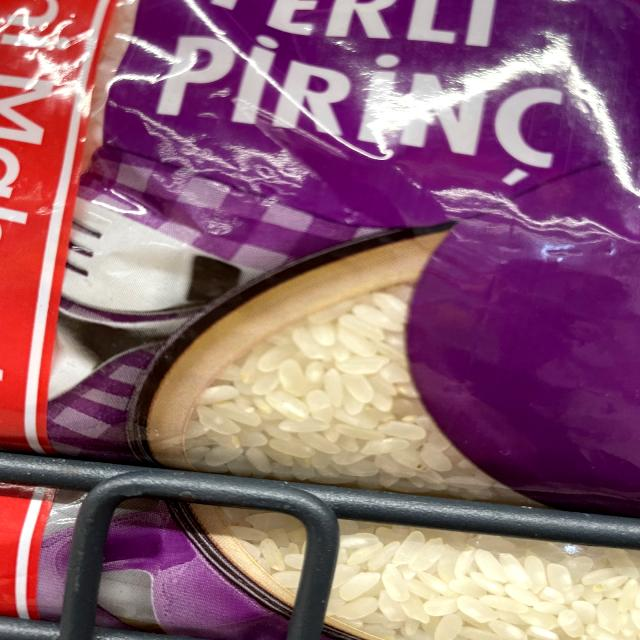rice: (203, 324, 420, 473)
